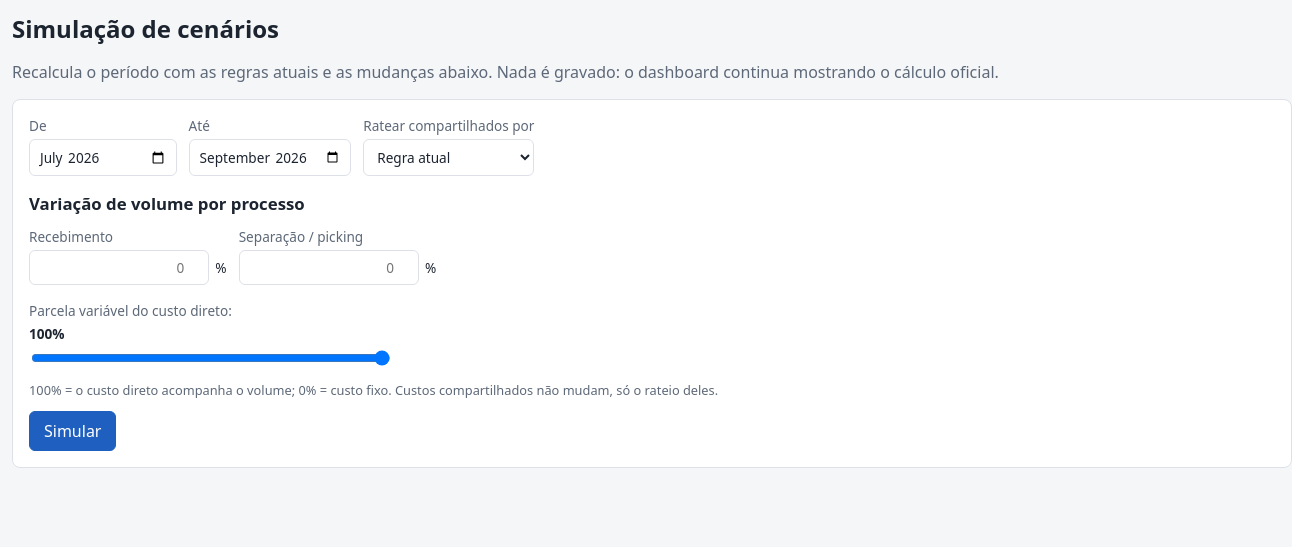
Test case: erro da API aparece sem apagar o formulário
This screenshot has width=1292, height=547.
Click the button "Simular": (73, 431) [29, 411, 116, 451]
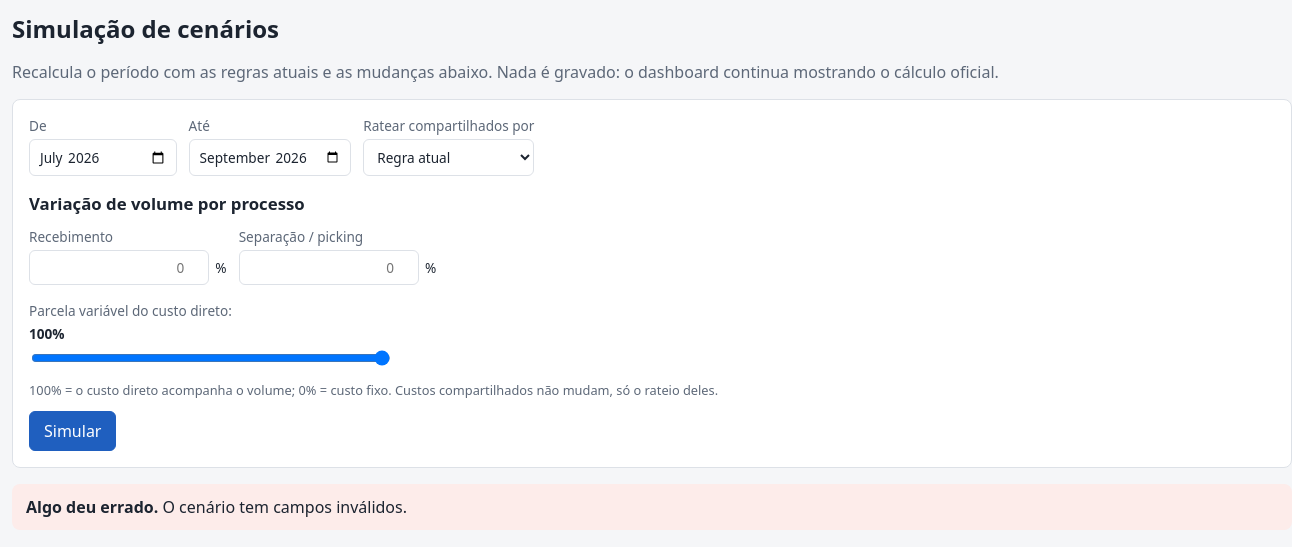
Expected: the text "Algo deu errado. O cenário tem campos inválidos." is shown, [12, 484, 1291, 530]
